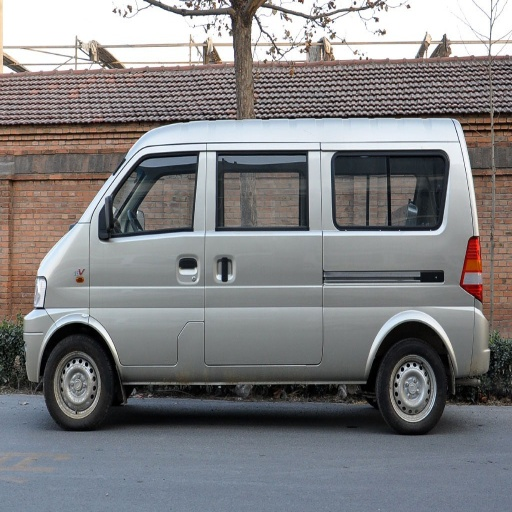back_left_door: (206, 148, 283, 328), (370, 149, 441, 217)
trunk: (220, 255, 473, 382)
